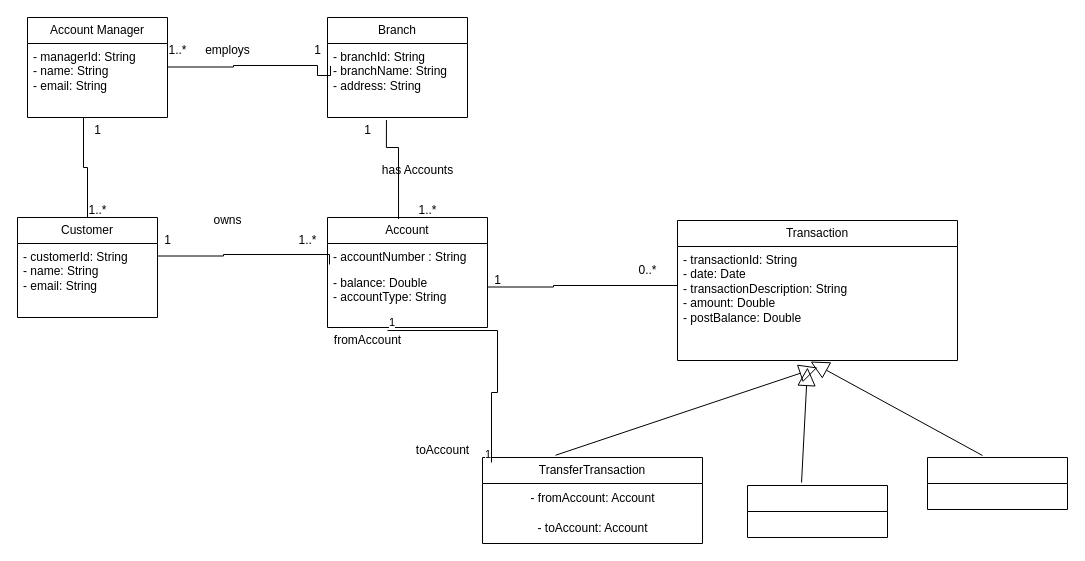
Some shapes in this 1085 by 561 pixel diagram are drawn without their labels. The shapes that lost their labels are listed below. From the top down, each one's centre as x and y in pixels, then its label:
At pixel 997 483: "WithdrawalTransaction".
At pixel 817 511: "DepositTransaction".
